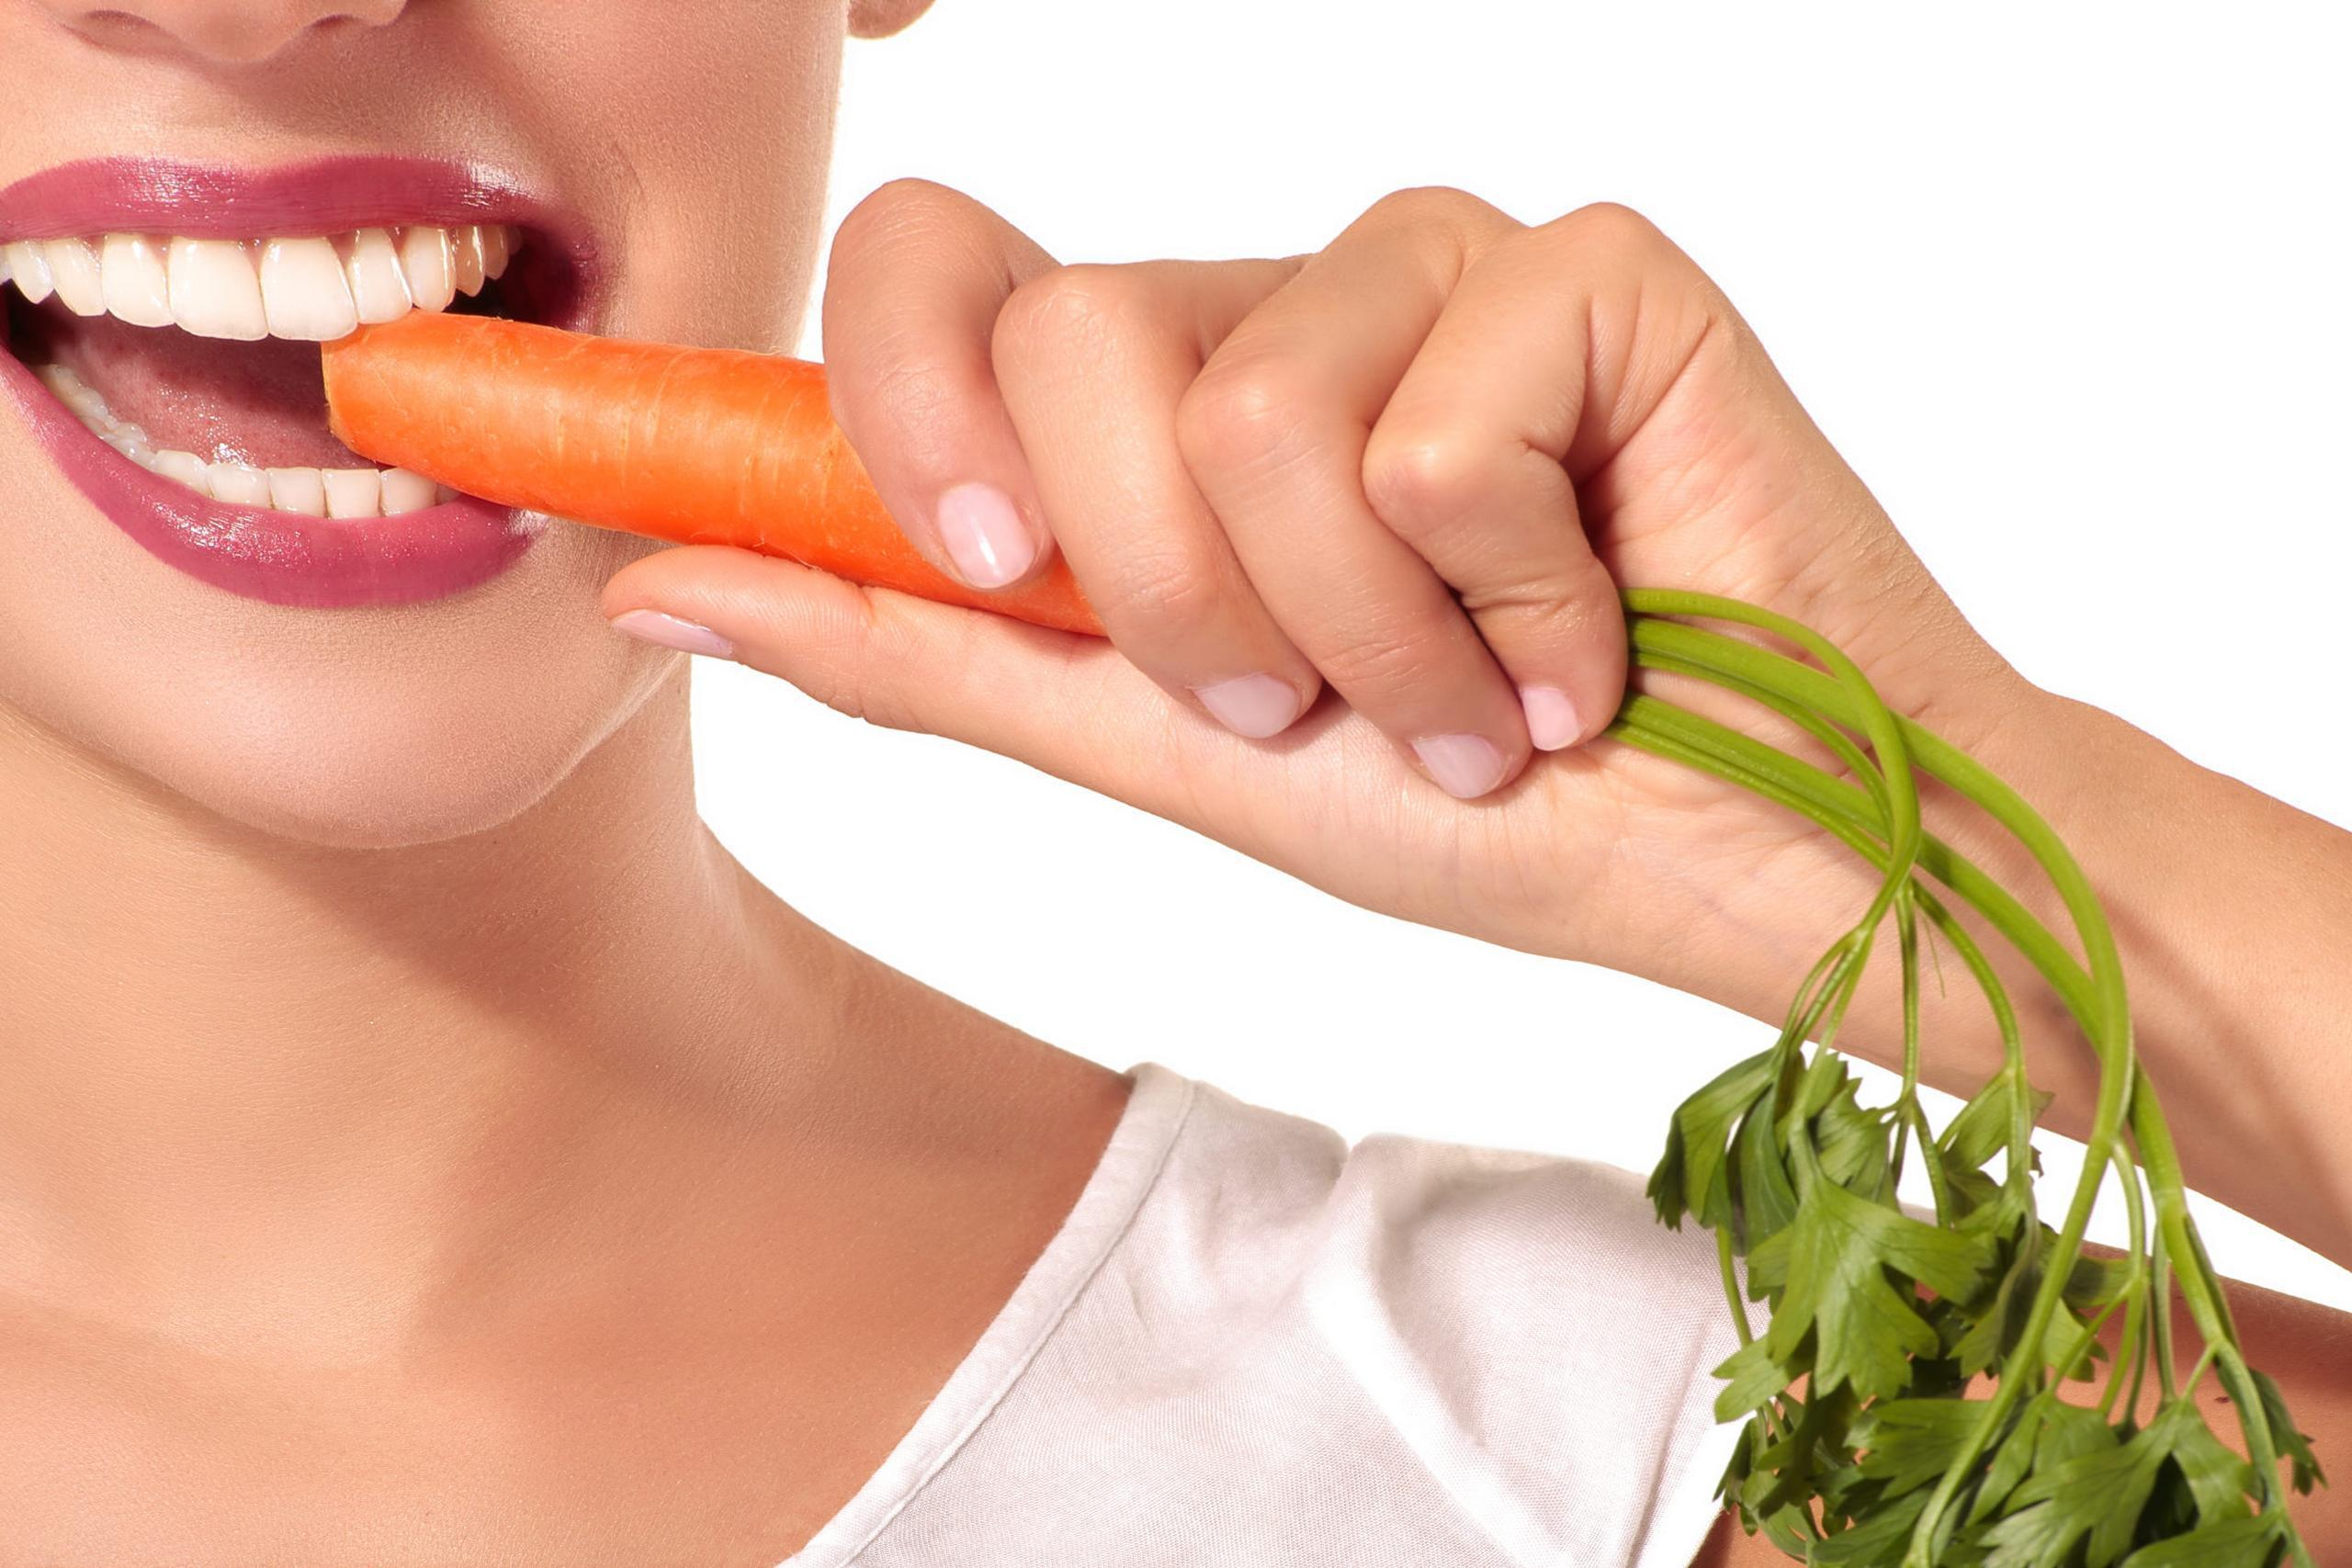carrot: (313, 264, 875, 563)
